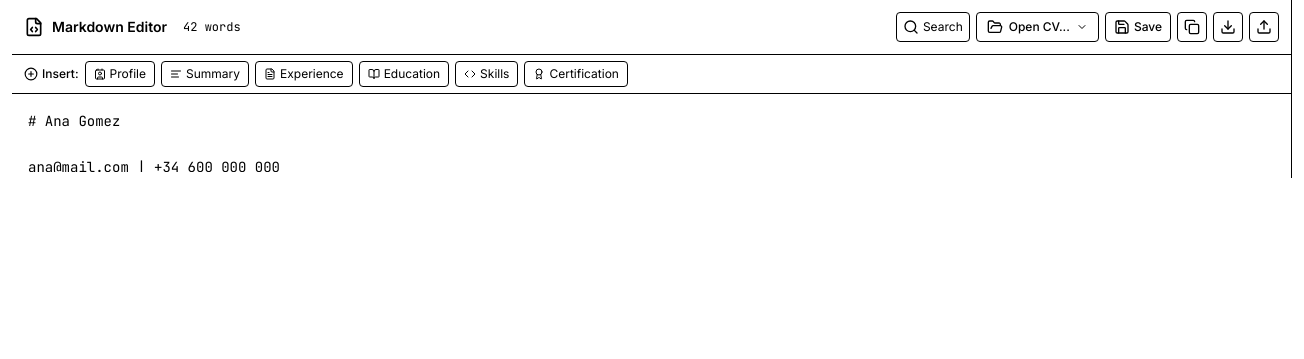
Test: MarkdownEditor library dropdown › lists the drafts and the samples in groups, with an icon each
Click the button "Open CV...". click: [1037, 27]
box: x1=976 y1=12 x2=1099 y2=42
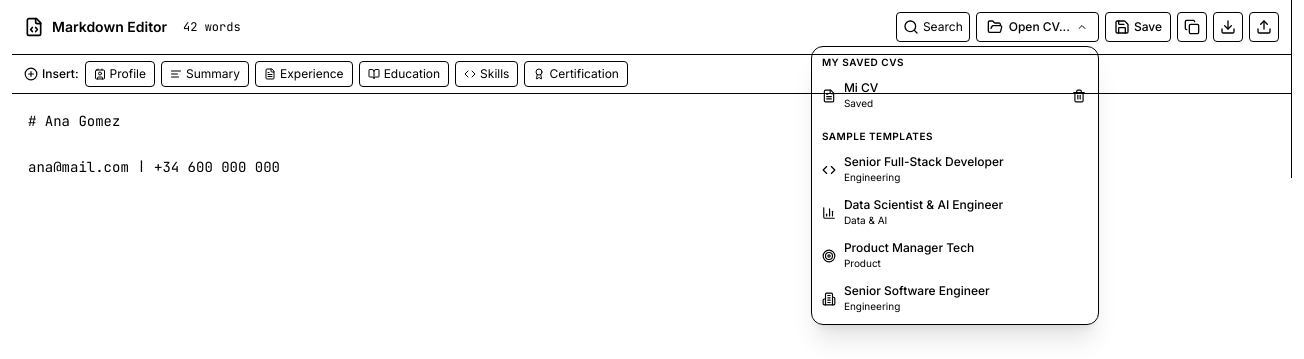
Check: the text "My Saved CVs" is shown, box x1=822 y1=56 x2=904 y2=68
Check: the text "Sample Templates" is shown, box x1=822 y1=130 x2=933 y2=142
Check: the text "Mi CV" is shown, box x1=844 y1=80 x2=878 y2=96
